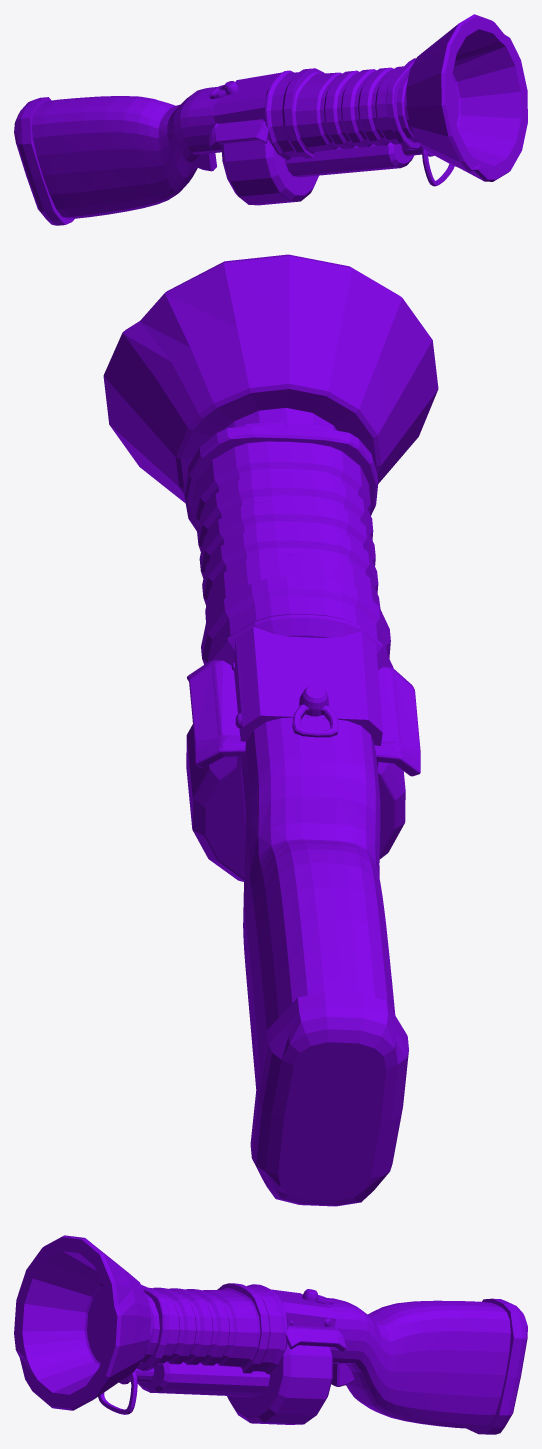
Rendered from meowrush_gun.glb.
3 views of the same model, one above another, from view 1: azimuth 30°, elevation 25°; view 2: azimuth 150°, elevation 25°; view 3: azimuth 270°, elevation 25° (orthographic). The views are drawn at different scales.
Parts seen in each view (by area): view 1: agarre_low.001; view 2: agarre_low.001; view 3: agarre_low.001.
Part boxes in pixels (x1,y1,x2,y2): agarre_low.001: [14, 14, 527, 225]; agarre_low.001: [103, 254, 438, 1206]; agarre_low.001: [14, 1235, 527, 1434].
Size of the model in its own units: 1.63 by 1.35 by 2.1.
